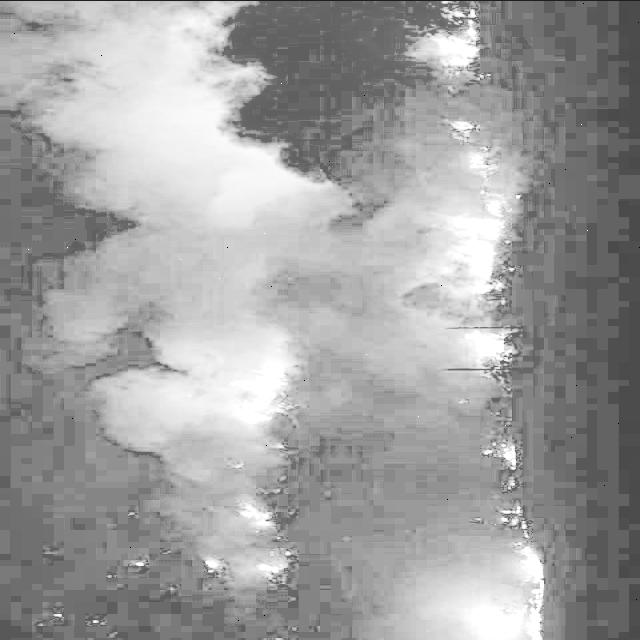api: (472, 211, 506, 276), (246, 376, 289, 411), (487, 603, 526, 639), (446, 35, 486, 64), (522, 552, 550, 591), (468, 334, 512, 358), (525, 607, 551, 640), (505, 447, 523, 465)
asap: (1, 1, 446, 366), (292, 368, 493, 626), (38, 370, 248, 596)
